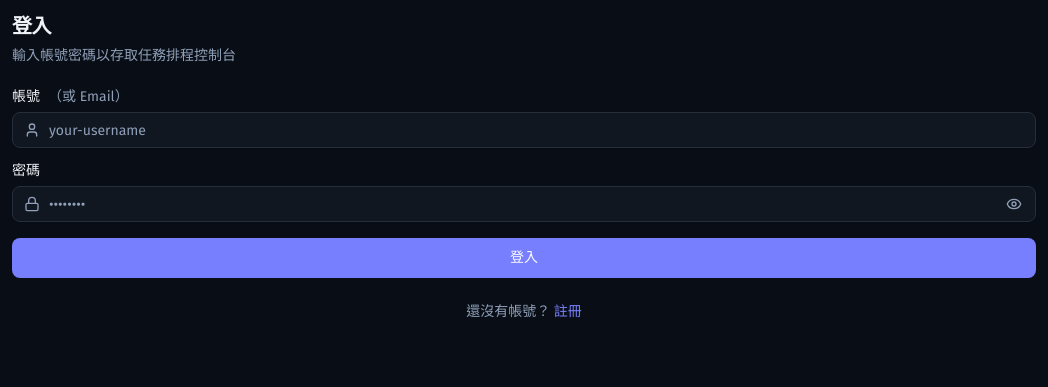
AuthForm — login mode › shows the maintenance message when the backend is down
Type "a" into the field labelled "帳號 （或 Email）" at [524, 130], box [12, 112, 1036, 148]
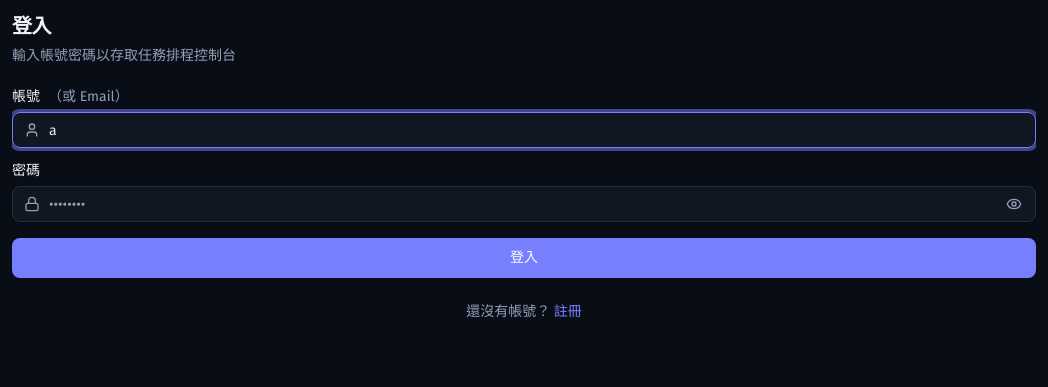
Type "b" into the password field labelled "密碼" at [524, 204], box [12, 186, 1036, 222]
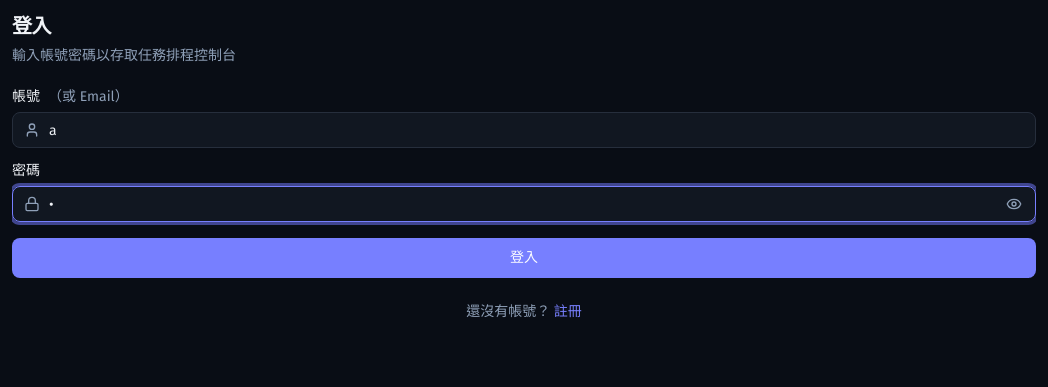
Click the button "登入" at [524, 258], box [12, 238, 1036, 278]
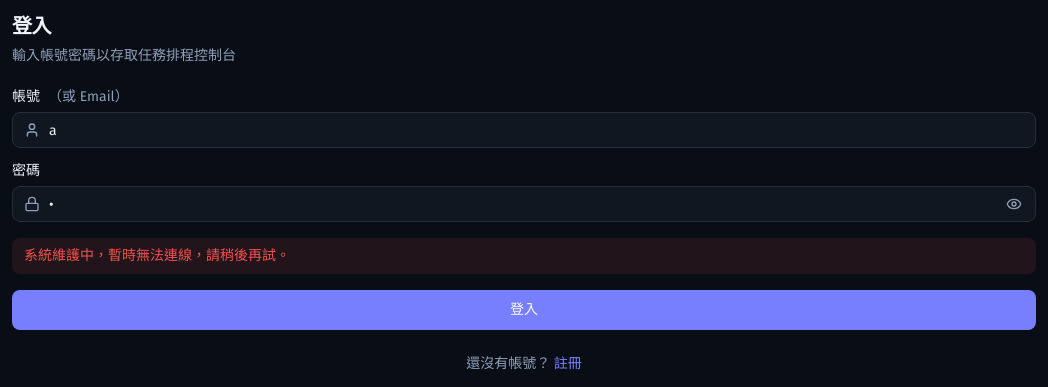
Result: the message reads "系統維護中，暫時無法連線，請稍後再試。" at [24, 247, 290, 264]
